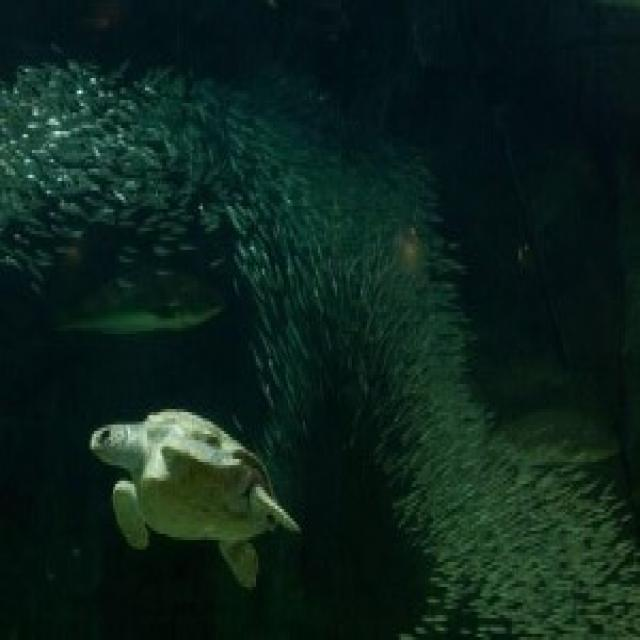Sea turtle: (78, 409, 282, 573)
